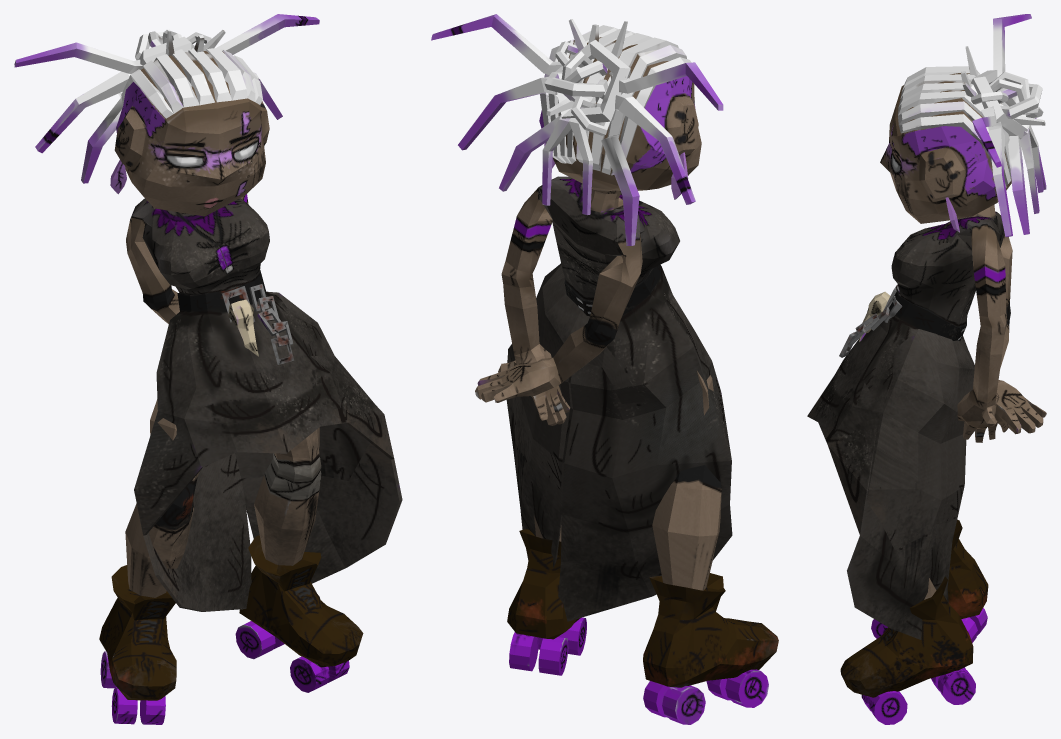
File: bruja_000037.obj
3 views of the same model, side by side, from view 1: azimuth 30°, elevation 25°; view 2: azimuth 150°, elevation 25°; view 3: azimuth 270°, elevation 25° (orthographic). The views are drawn at different scales.
Parts seen in each view (by area): view 1: Bruja_Plane.001; view 2: Bruja_Plane.001; view 3: Bruja_Plane.001.
Boxes of the visible parts, bbox=[...] form: Bruja_Plane.001: bbox=[14, 14, 402, 724]; Bruja_Plane.001: bbox=[431, 14, 778, 724]; Bruja_Plane.001: bbox=[807, 14, 1046, 724].
Size of the model in its own units: 7.55 by 16.01 by 5.6.
